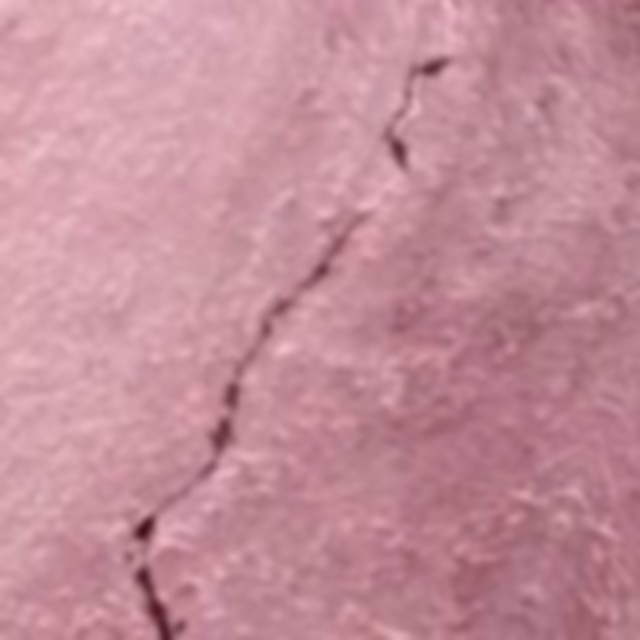SurfaceCrack: (116, 44, 456, 640)
